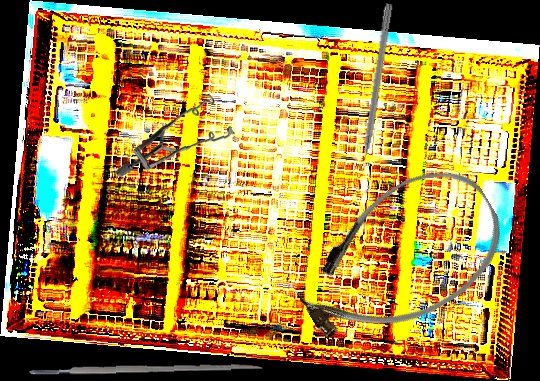Cannula: (275, 149, 523, 367)
Pusher: (355, 2, 394, 182)
Scalpel Handle: (26, 361, 264, 377)
Speculum: (115, 88, 238, 184)
